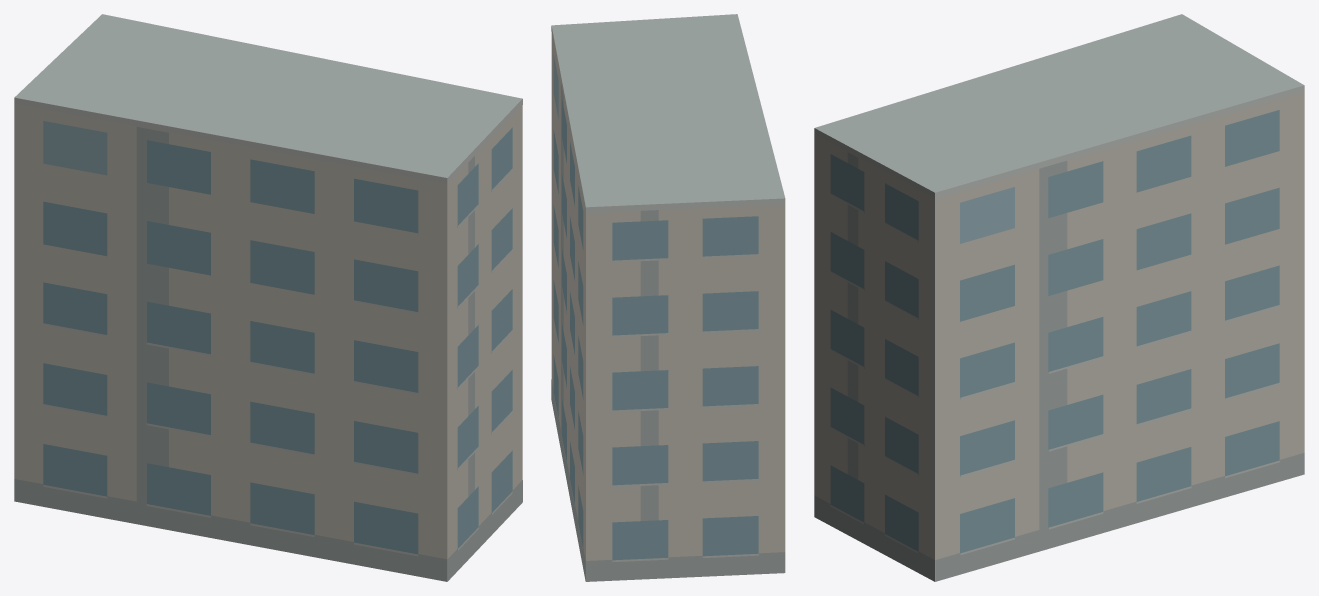
File: residential-da94defe-df4c-4e69-82cb-e85c4186fa34.glb
3 views of the same model, side by side, from view 1: azimuth 30°, elevation 25°; view 2: azimuth 150°, elevation 25°; view 3: azimuth 270°, elevation 25° (orthographic). The views are drawn at different scales.
Parts seen in each view (by area): view 1: residential-da94defe-df4c-4e69-82cb-e85c4186fa34.tmp; view 2: residential-da94defe-df4c-4e69-82cb-e85c4186fa34.tmp; view 3: residential-da94defe-df4c-4e69-82cb-e85c4186fa34.tmp.
Part boxes in pixels (x1,y1,x2,y2): residential-da94defe-df4c-4e69-82cb-e85c4186fa34.tmp: (14, 14, 522, 581); residential-da94defe-df4c-4e69-82cb-e85c4186fa34.tmp: (551, 14, 785, 581); residential-da94defe-df4c-4e69-82cb-e85c4186fa34.tmp: (814, 14, 1304, 581).
Size of the model in its own units: 15.04 by 15.25 by 17.42.
